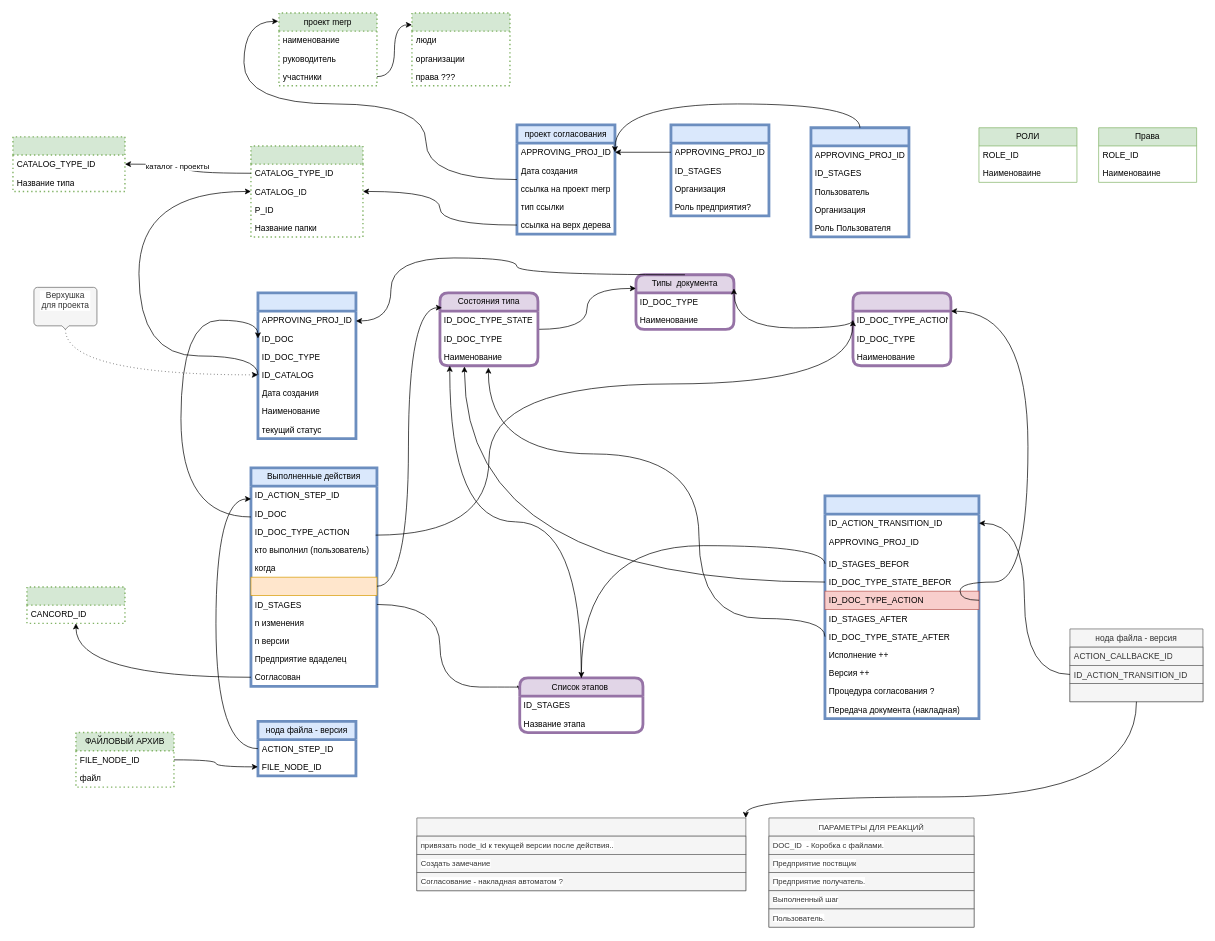
Image size: 1215x941. Some labels were removed from this diagram. The box of each missing label's shape, as (x1, y1, x2, y2) in pixels:
ID_DOC_TYPE_STAIT: (250, 576, 377, 595)
Действия для Типа: (851, 291, 952, 367)
Карточка документа: (256, 291, 357, 440)
Каталог: (250, 145, 363, 237)
Процедура согласования: (26, 586, 125, 624)
Реакция.: (1069, 683, 1203, 702)
список возможных реакций: (416, 817, 746, 891)
Список переходов: (823, 494, 980, 720)
Типы каталогов: (12, 136, 125, 192)
участники merp: (411, 12, 510, 86)
этап + организация: (669, 123, 770, 217)
этап + пользователь: (809, 126, 910, 238)
